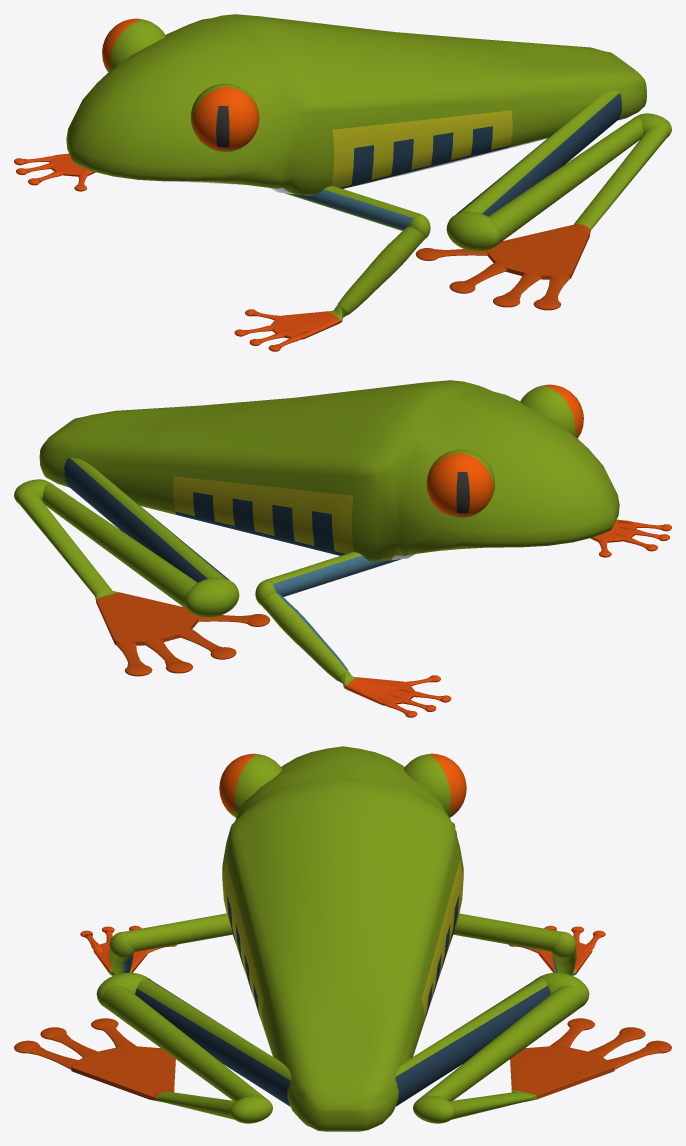
The model's file is rana.fbx.
The picture shows the model from 3 angles, top to bottom: view 1: azimuth 30°, elevation 25°; view 2: azimuth 150°, elevation 25°; view 3: azimuth 270°, elevation 25°; orthographic projection.
Visible parts, largest first — view 1: Sphere.002, Sphere.001, Cylinder; view 2: Sphere.002, Sphere.001, Cylinder; view 3: Sphere.002, Sphere.001, Cylinder.
Part boxes in pixels (box(x1,y1,x2,y2)): Sphere.002: box(66, 14, 646, 195); Sphere.001: box(415, 90, 671, 310); Cylinder: box(14, 153, 430, 351); Sphere.002: box(39, 380, 619, 562); Sphere.001: box(14, 457, 270, 676); Cylinder: box(255, 519, 671, 717); Sphere.002: box(219, 746, 466, 1131); Sphere.001: box(14, 972, 671, 1123); Cylinder: box(80, 913, 605, 975).
Size of the model in its own units: 383 by 133 by 385.
